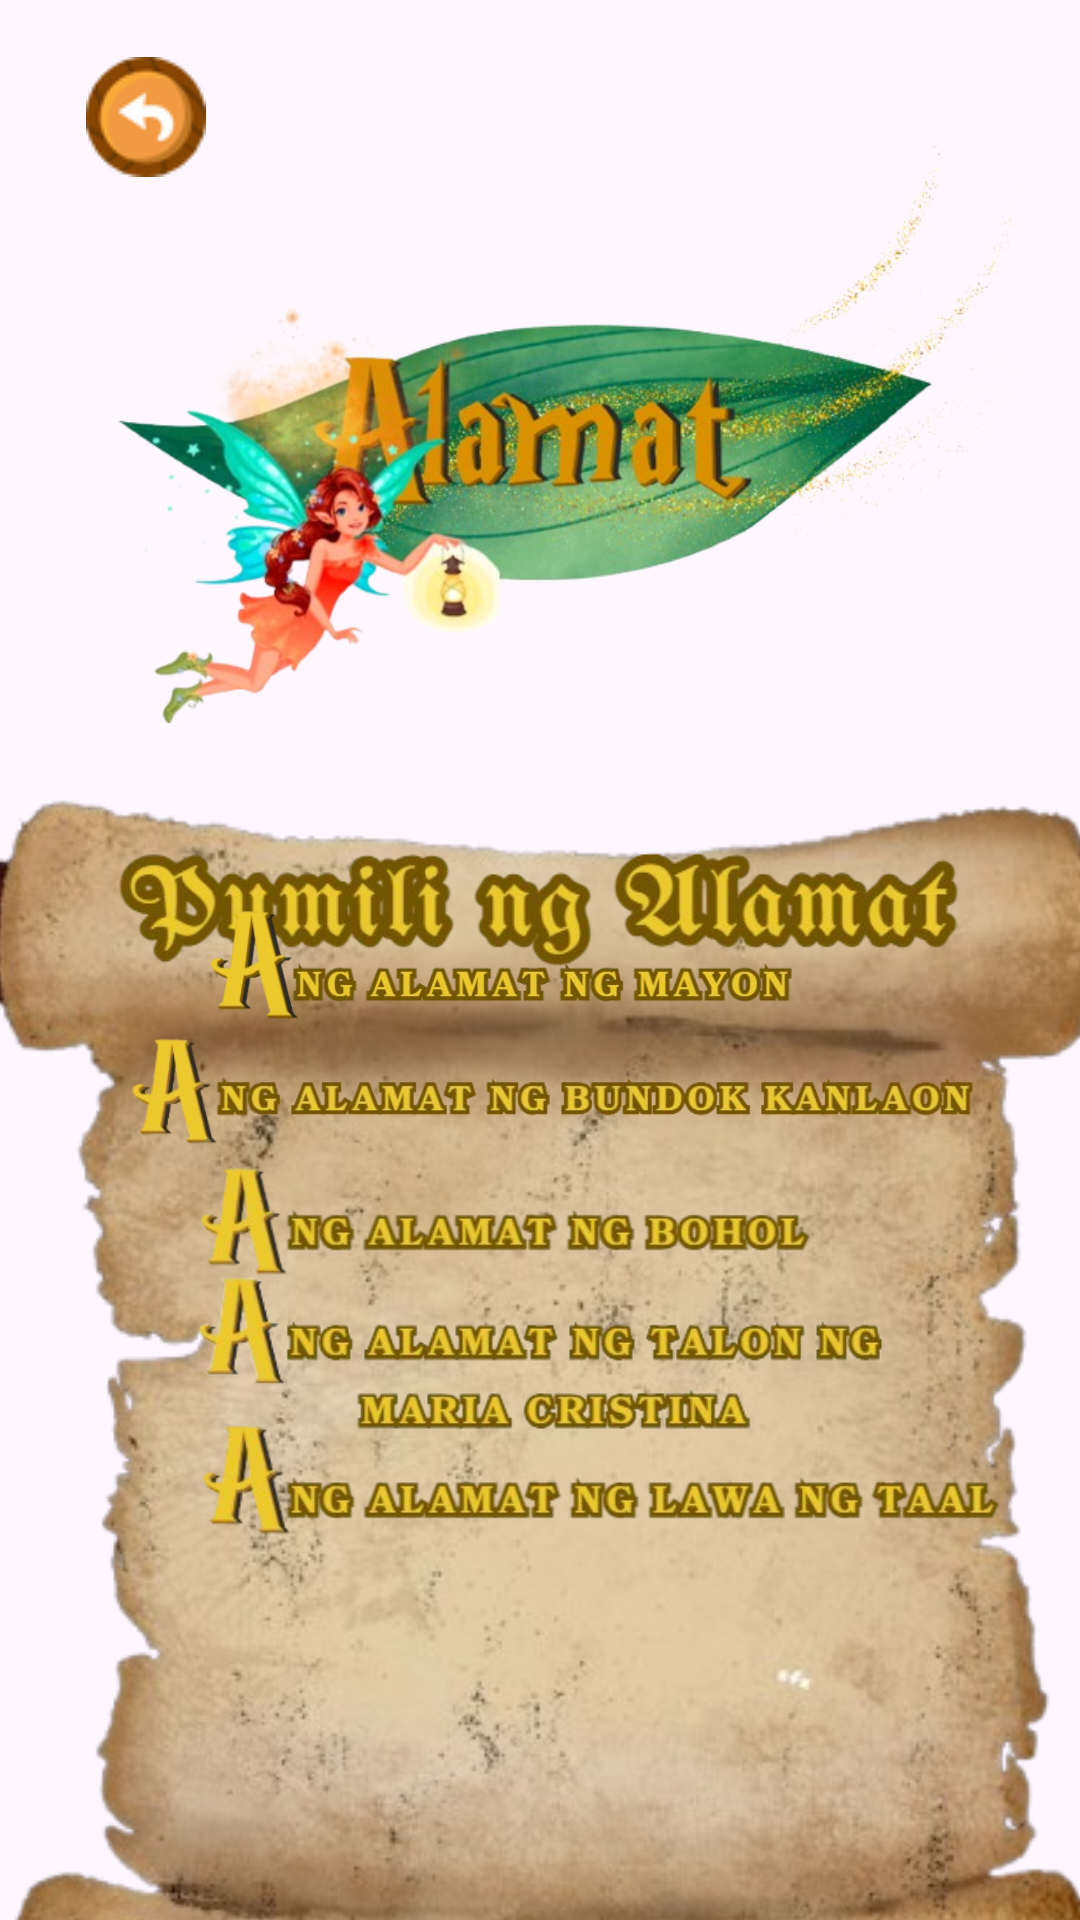

Icon bounding boxes for this 1080w x 1920h phone screenshot, format (x1,y1,x2,y2):
back: (86,57,206,177)
